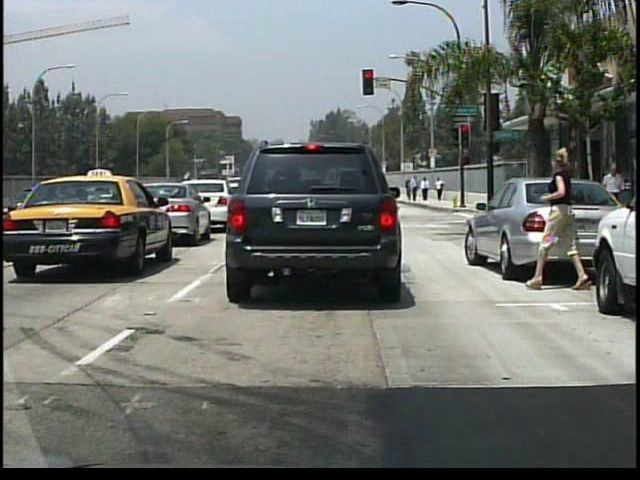person: (530, 142, 595, 290), (597, 160, 624, 235), (409, 175, 419, 202), (420, 176, 430, 203), (435, 176, 445, 202), (405, 178, 414, 200)
